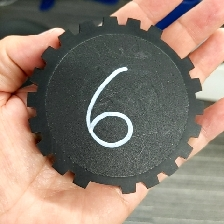gear: (25, 15, 205, 195)
missing: (146, 23, 196, 72), (73, 171, 138, 195)
